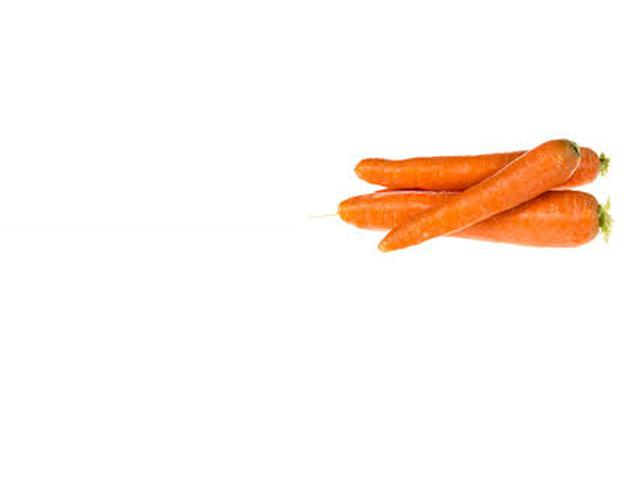carrot: (346, 141, 624, 197)
